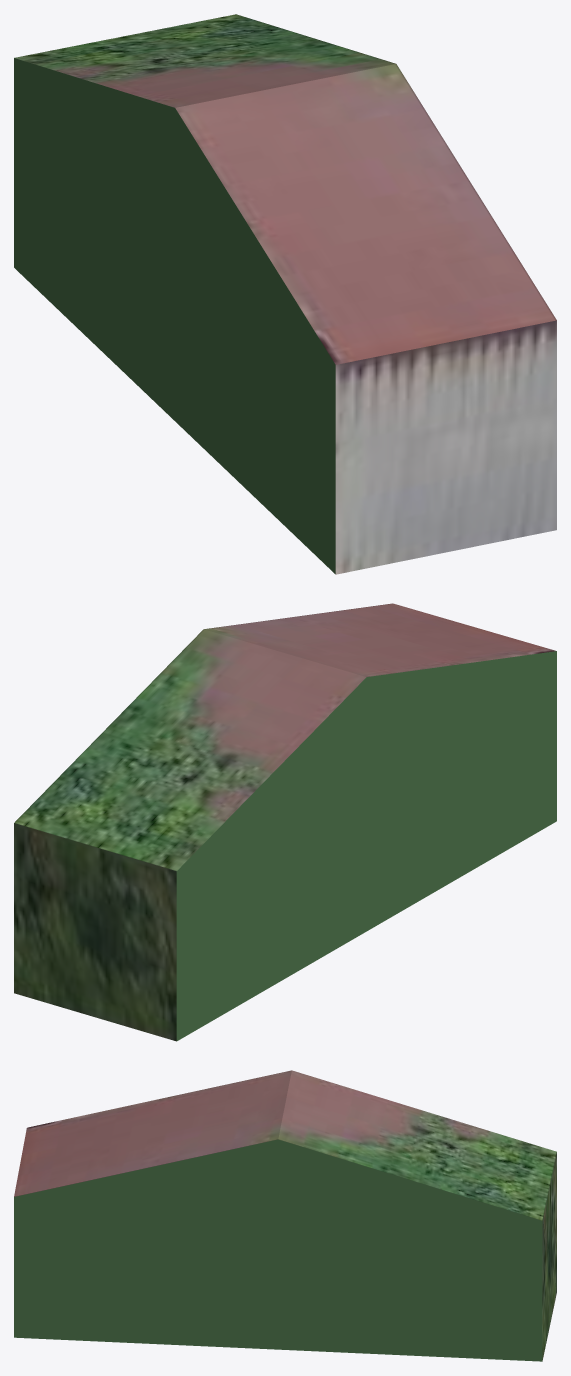
3 renders of one model, top to bottom at view 1: azimuth 30°, elevation 25°; view 2: azimuth 150°, elevation 25°; view 3: azimuth 270°, elevation 25°, orthographic. The views are drawn at different scales.
Visible parts, largest first — view 1: B286944046101062A0; view 2: B286944046101062A0; view 3: B286944046101062A0.
Boxes of the visible parts, x1,y1,x2,y2 form: B286944046101062A0: [14, 14, 556, 574]; B286944046101062A0: [14, 603, 556, 1041]; B286944046101062A0: [14, 1070, 556, 1361].
Bounding box in the file's own units: 4.28 × 4.5 × 10.53.
Materials: 1 (1 with a texture image).
